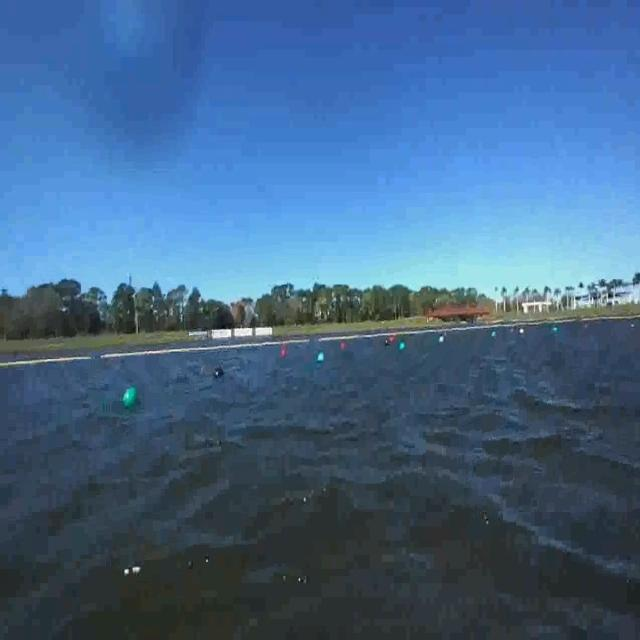black-buoy: (212, 365, 224, 382)
green-buoy: (125, 385, 140, 406), (317, 352, 325, 364), (398, 342, 405, 352)
red-buoy: (342, 343, 347, 351)
red-column-buoy: (281, 347, 287, 359)
